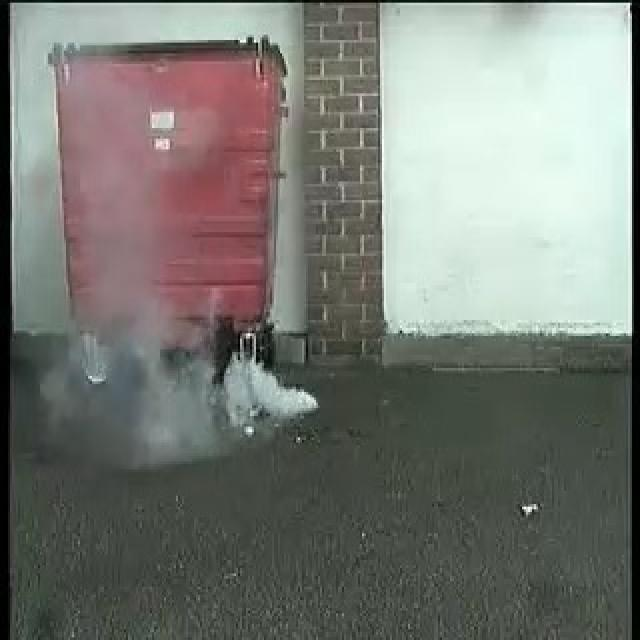smoke: (96, 320, 324, 435)
